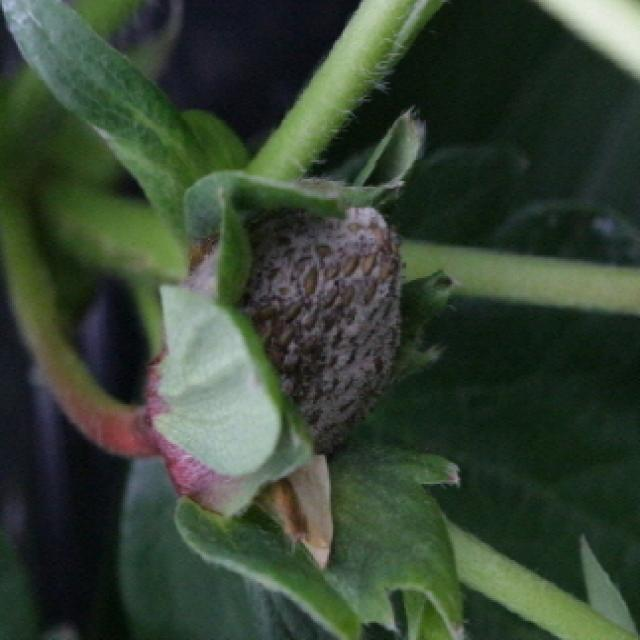Gray Mold: (142, 178, 401, 522)
